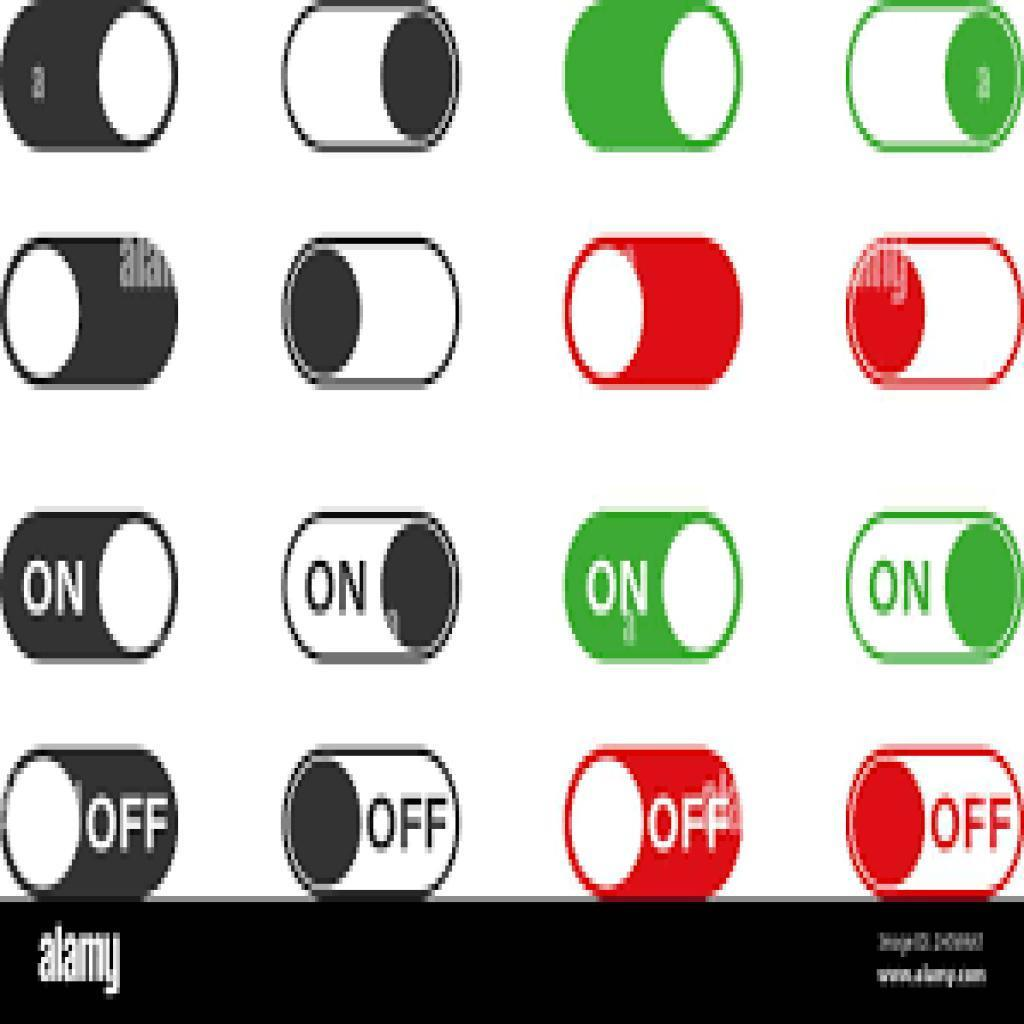switch: (560, 504, 746, 678), (1, 729, 193, 897), (281, 745, 466, 911), (280, 506, 466, 668), (845, 1, 1024, 169), (1, 504, 185, 667), (565, 234, 743, 399), (842, 502, 1024, 662), (561, 746, 745, 903), (285, 240, 460, 405), (839, 743, 1024, 897), (282, 1, 462, 159), (568, 1, 747, 159), (1, 1, 179, 159), (4, 234, 183, 390), (846, 237, 1020, 392)
